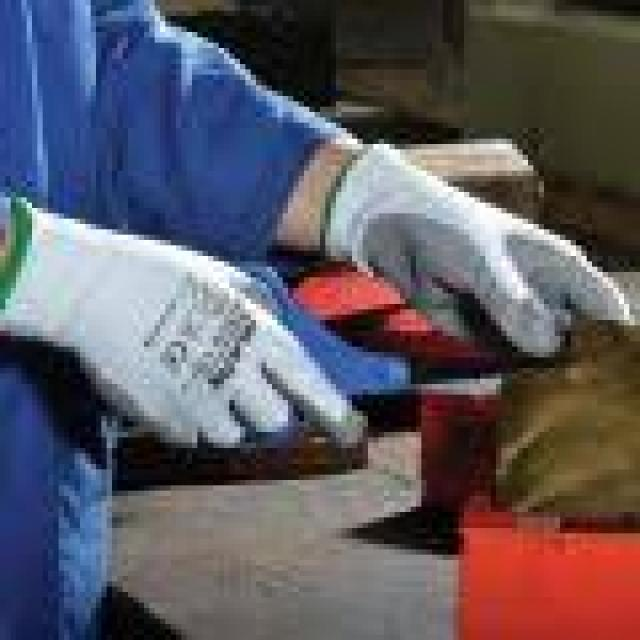Gloves: (0, 210, 366, 447), (328, 146, 629, 357)
Overall Suit: (0, 330, 110, 639)
